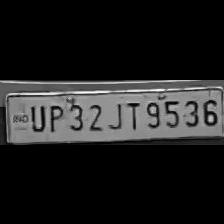2: (84, 98, 104, 132)
3: (64, 97, 84, 131), (182, 95, 198, 127)
5: (162, 95, 180, 127)
6: (199, 94, 219, 126)
9: (142, 96, 162, 128)
J: (104, 97, 124, 130)
P: (44, 100, 64, 132)
T: (122, 97, 142, 129)
U: (27, 100, 46, 132)
